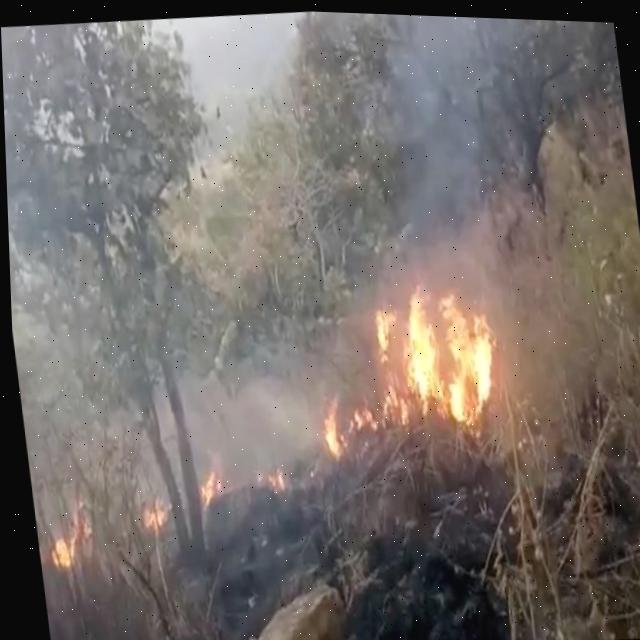fire: (366, 290, 500, 421)
smoke: (387, 11, 496, 272), (178, 367, 336, 486), (177, 12, 286, 109)
